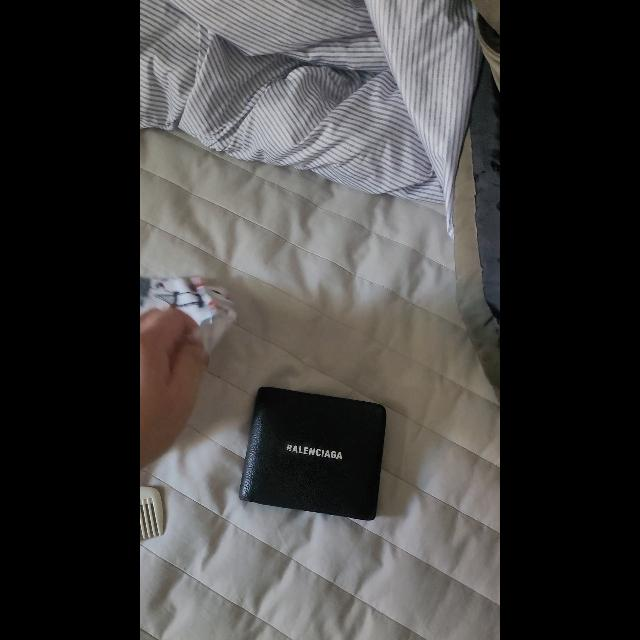COMB: (140, 486, 166, 540)
Glasses cleaning cloth: (140, 276, 238, 362)
WALLET: (238, 386, 386, 520)
